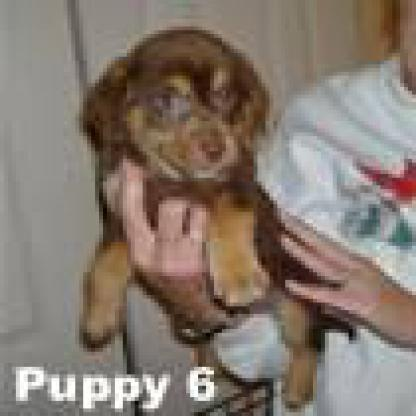dog: (86, 16, 343, 380)
